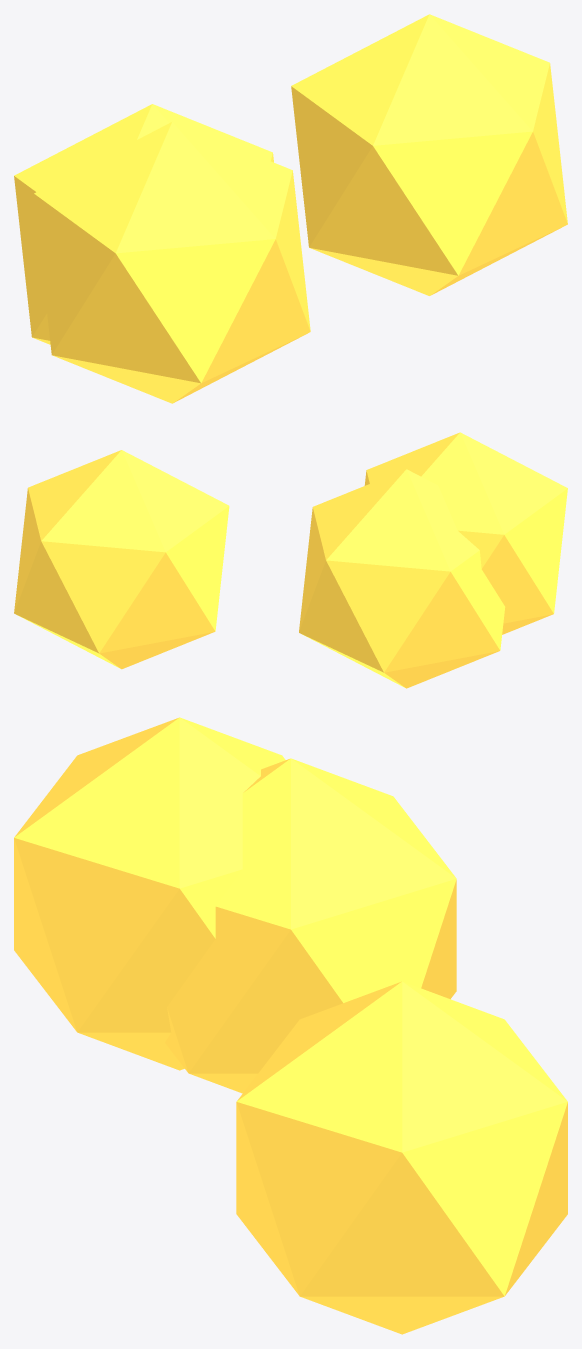
The model's file is flower_yellow.glb.
The picture shows the model from 3 angles, top to bottom: view 1: azimuth 30°, elevation 25°; view 2: azimuth 150°, elevation 25°; view 3: azimuth 270°, elevation 25°; orthographic projection. The views are drawn at different scales.
Parts seen in each view (by area): view 1: Icosphere.003, Icosphere.004, Icosphere.005; view 2: Icosphere.003, Icosphere.005, Icosphere.004; view 3: Icosphere.003, Icosphere.004, Icosphere.005.
Boxes of the visible parts, x1=… form: Icosphere.003: x1=291, y1=14, x2=567, y2=295; Icosphere.004: x1=34, y1=121, x2=310, y2=403; Icosphere.005: x1=14, y1=104, x2=273, y2=344; Icosphere.003: x1=14, y1=450, x2=229, y2=669; Icosphere.005: x1=299, y1=469, x2=505, y2=688; Icosphere.004: x1=364, y1=432, x2=567, y2=634; Icosphere.003: x1=236, y1=981, x2=567, y2=1334; Icosphere.004: x1=14, y1=717, x2=285, y2=1070; Icosphere.005: x1=165, y1=758, x2=456, y2=1093.
Size of the model in its own units: 0.3921 by 0.2068 by 0.2559.
